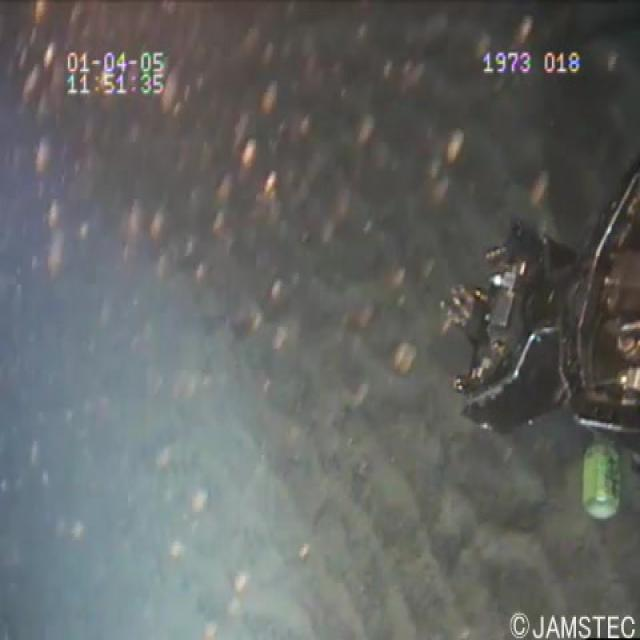plastic: (576, 438, 627, 524)
